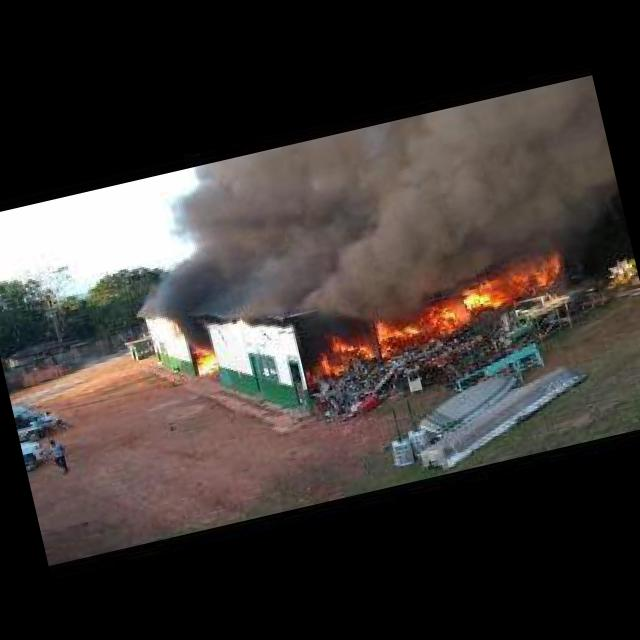Fire: (458, 242, 572, 316), (365, 288, 474, 357), (296, 320, 380, 390), (186, 332, 224, 376)
Smoke: (134, 72, 633, 360)
